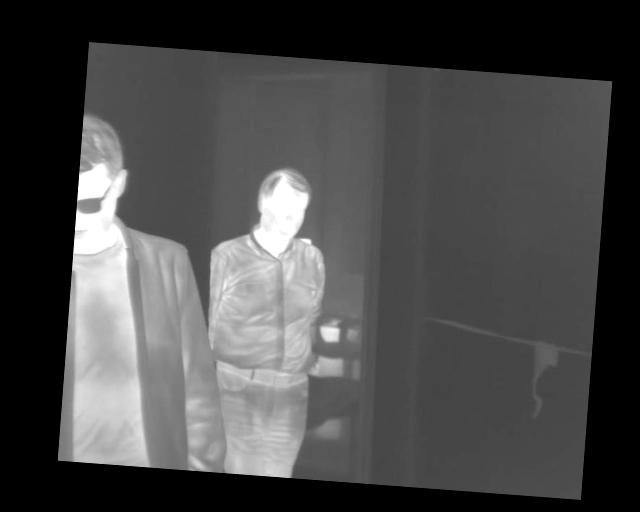face: (253, 164, 313, 246)
